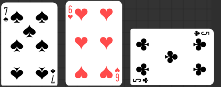4H: (113, 66, 120, 82)
5C: (192, 29, 210, 37)
7C: (49, 67, 56, 84)
